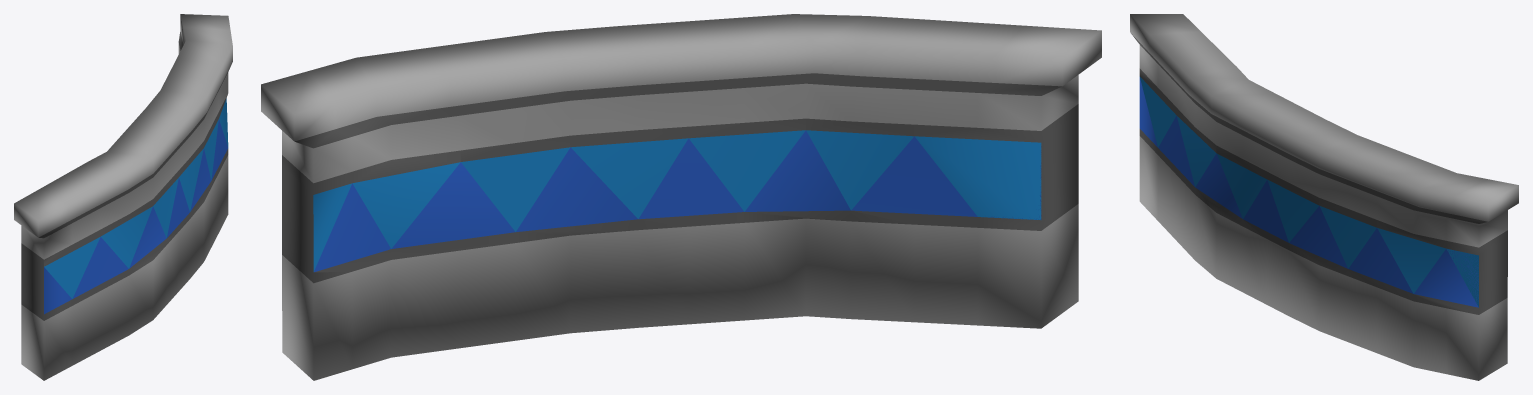
File: warpwall.fbx
3 views of the same model, side by side, from view 1: azimuth 30°, elevation 25°; view 2: azimuth 150°, elevation 25°; view 3: azimuth 270°, elevation 25° (orthographic). The views are drawn at different scales.
Parts seen in each view (by area): view 1: Cube; view 2: Cube; view 3: Cube.
Boxes of the visible parts, x1,y1,x2,y2 form: Cube: [14, 14, 232, 380]; Cube: [261, 14, 1101, 380]; Cube: [1130, 14, 1518, 380].
Bounding box in the file's own units: 524 × 235 × 454.
